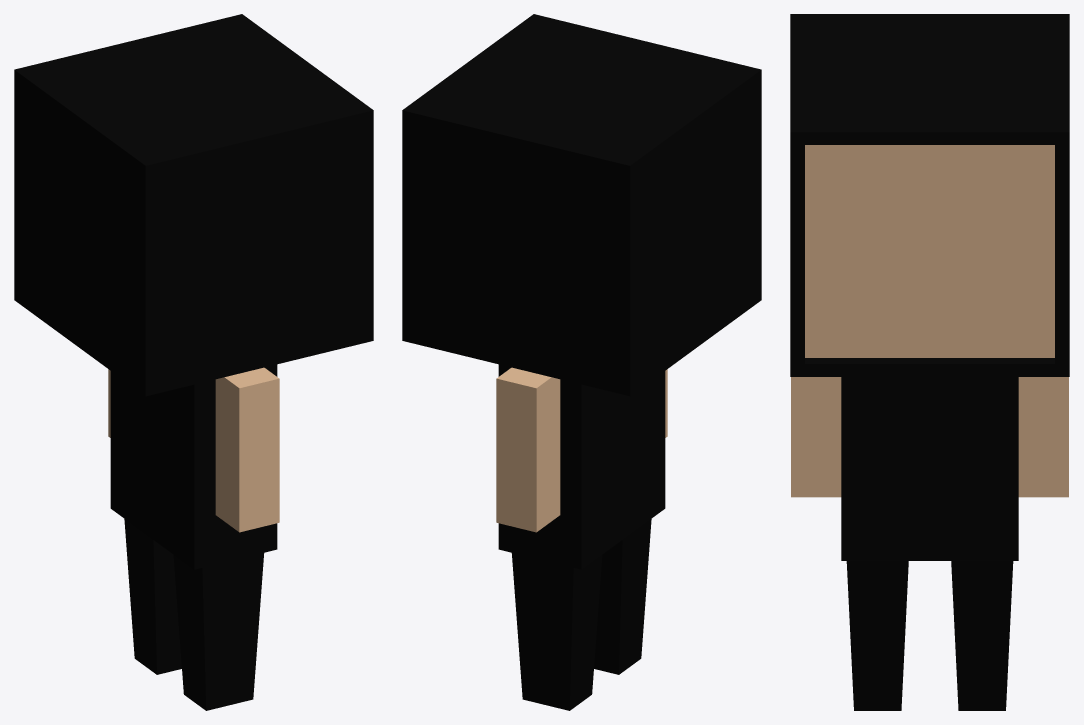
The model's file is Reaper_Import.fbx.
3 renders of one model, left to right at view 1: azimuth 30°, elevation 25°; view 2: azimuth 150°, elevation 25°; view 3: azimuth 270°, elevation 25°, orthographic. The views are drawn at different scales.
Visible parts, largest first — view 1: Hood, Body, Legs, Arms; view 2: Hood, Body, Legs, Arms; view 3: Cube, Hood, Body, Legs, Arms.
Boxes of the visible parts, <box> form: Hood: <box>14,14,373,396</box>; Body: <box>110,364,277,569</box>; Legs: <box>124,519,264,710</box>; Arms: <box>108,367,279,532</box>; Hood: <box>402,14,761,396</box>; Body: <box>498,364,665,569</box>; Legs: <box>511,519,651,710</box>; Arms: <box>496,367,667,532</box>; Cube: <box>805,145,1054,357</box>; Hood: <box>790,14,1069,376</box>; Body: <box>841,377,1018,560</box>; Legs: <box>846,561,1013,710</box>; Arms: <box>791,377,1068,497</box>.
Size of the model in its own units: 223 by 552 by 223.
